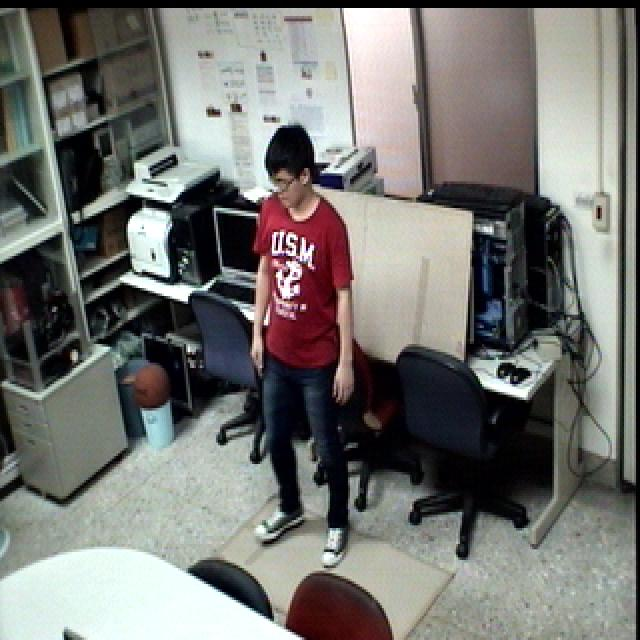stand: (239, 120, 367, 576)
